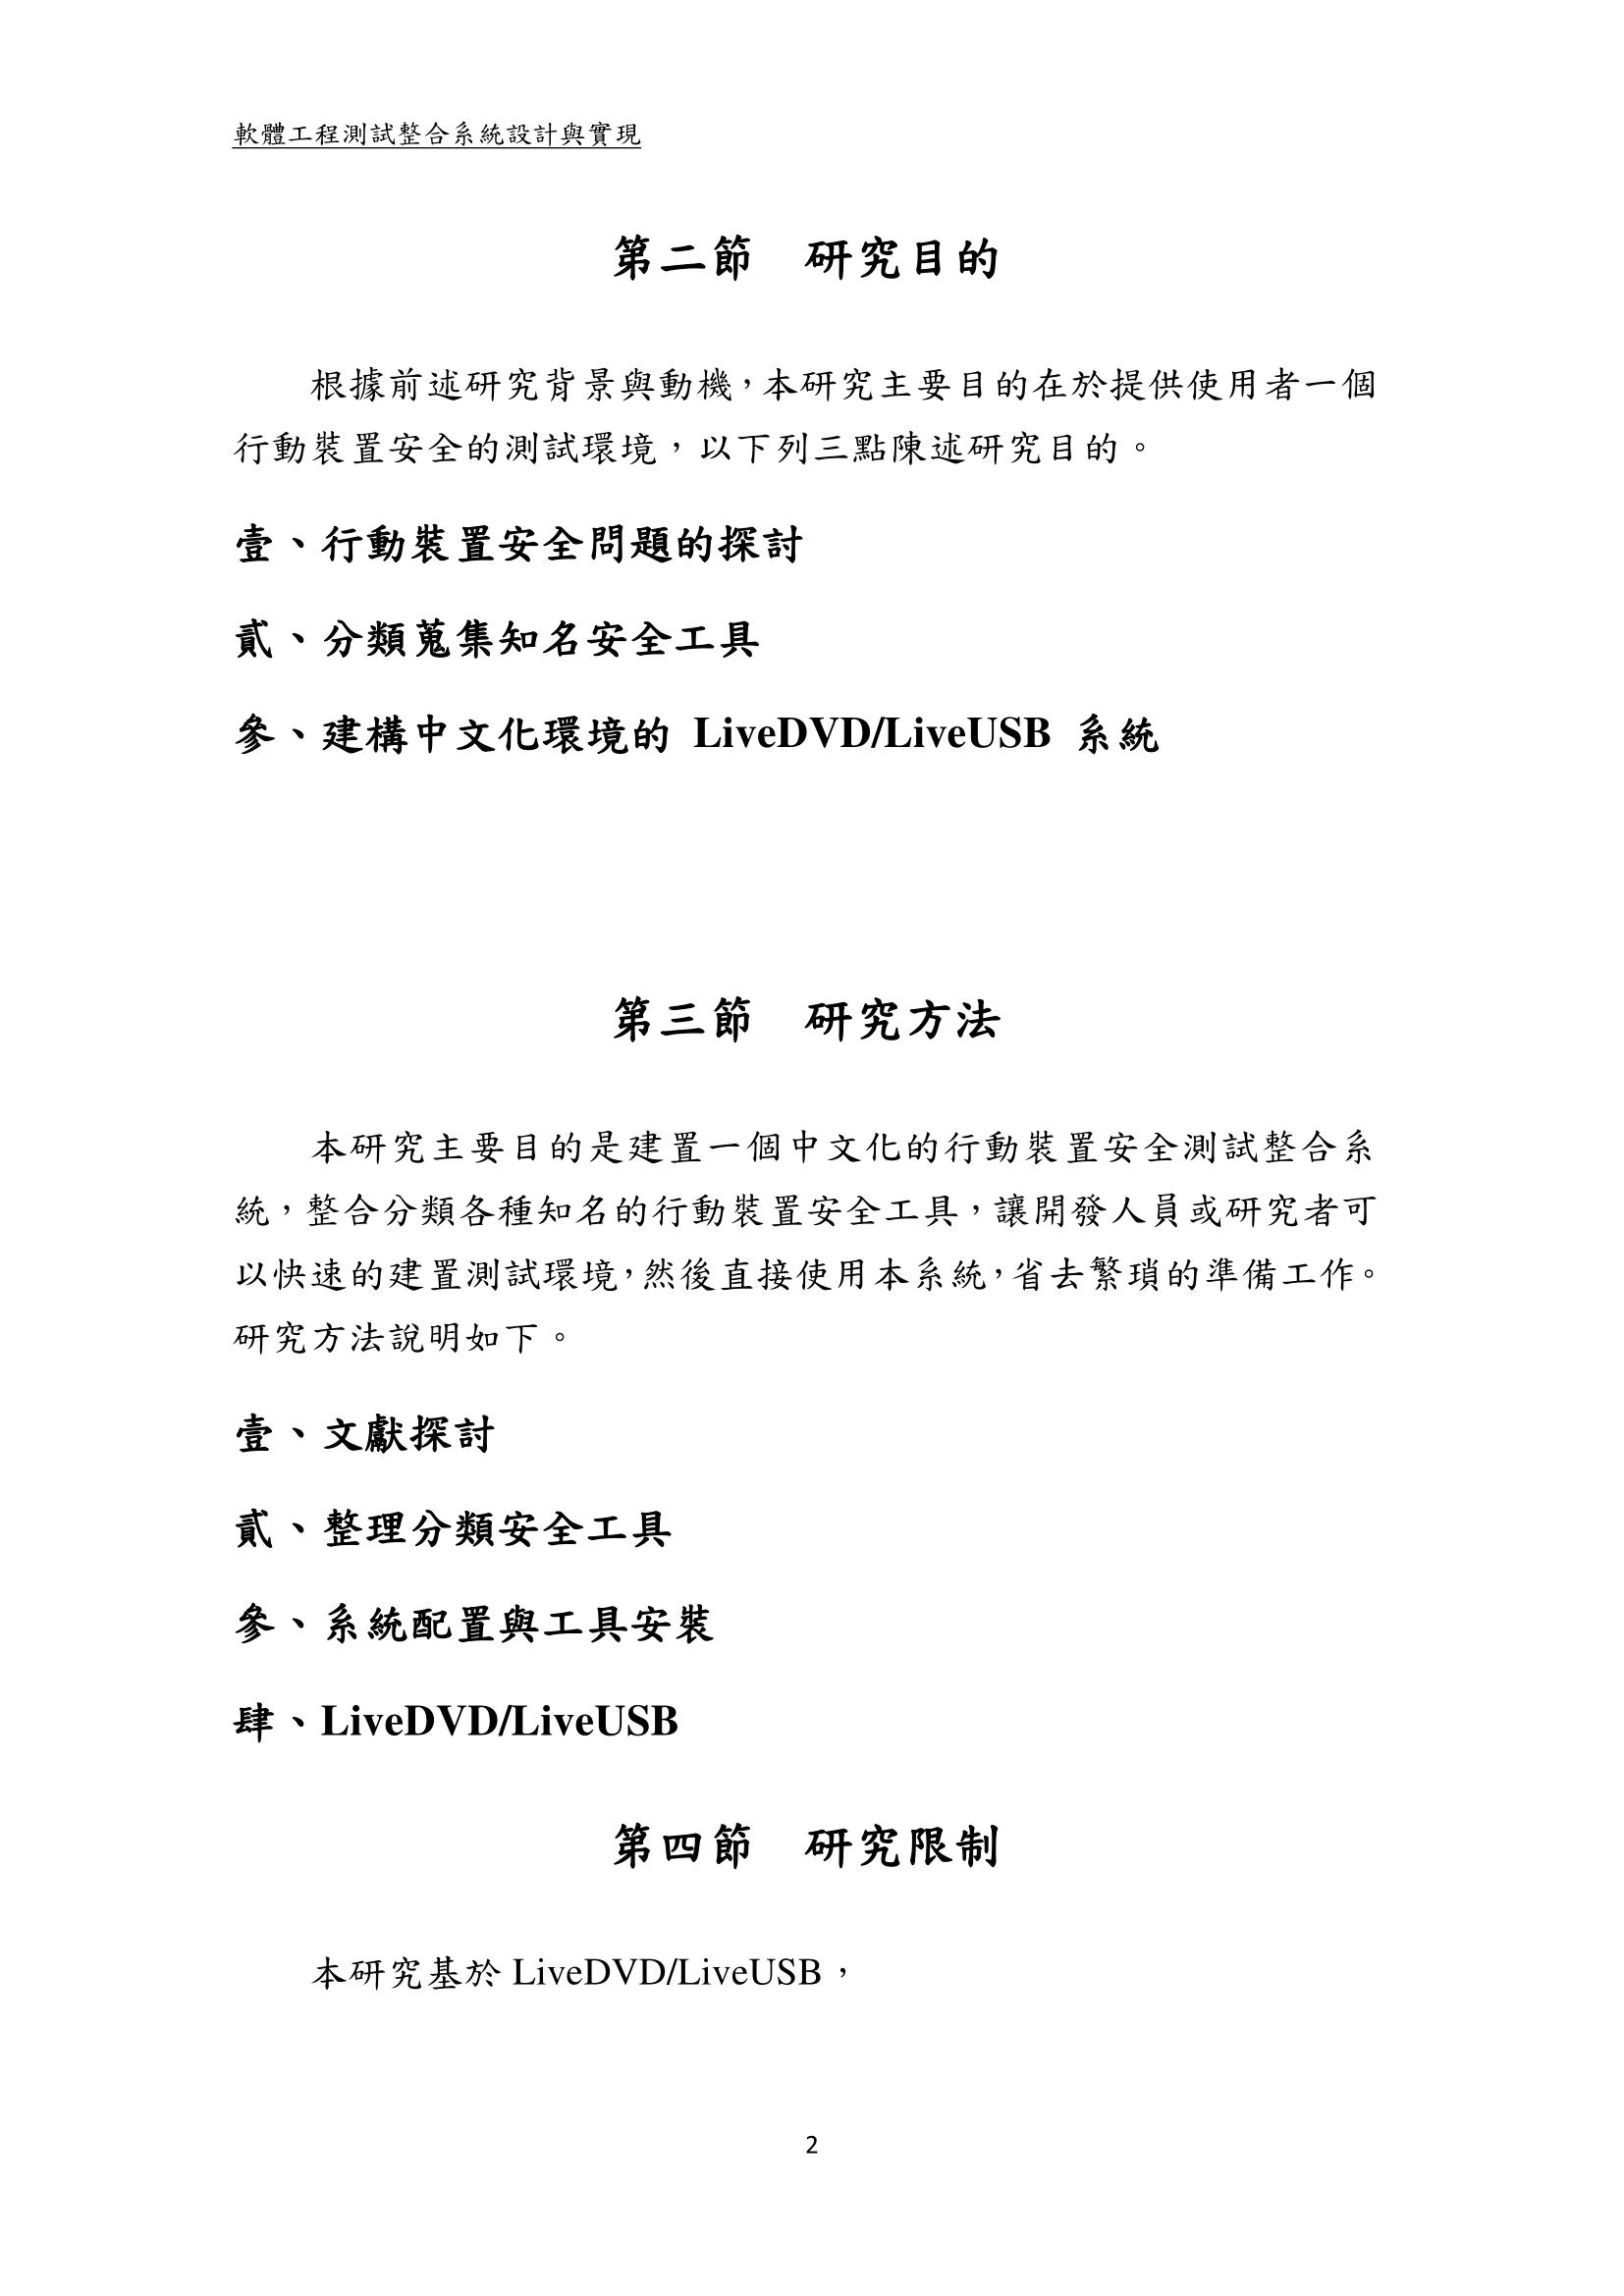text: (225, 353, 1403, 771), (214, 1114, 1394, 1360), (225, 1405, 729, 1769), (302, 1934, 859, 2015), (596, 1808, 1018, 1894), (608, 227, 1018, 295), (605, 987, 1014, 1056), (223, 118, 652, 158)
